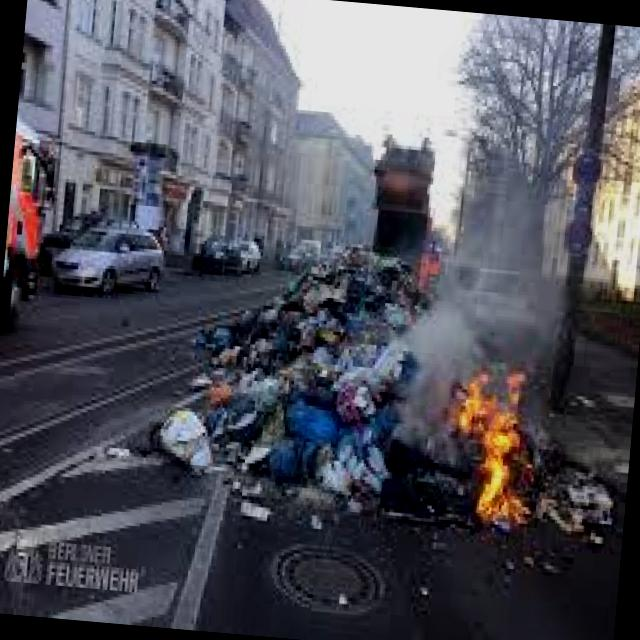garbage: (156, 237, 634, 540)
